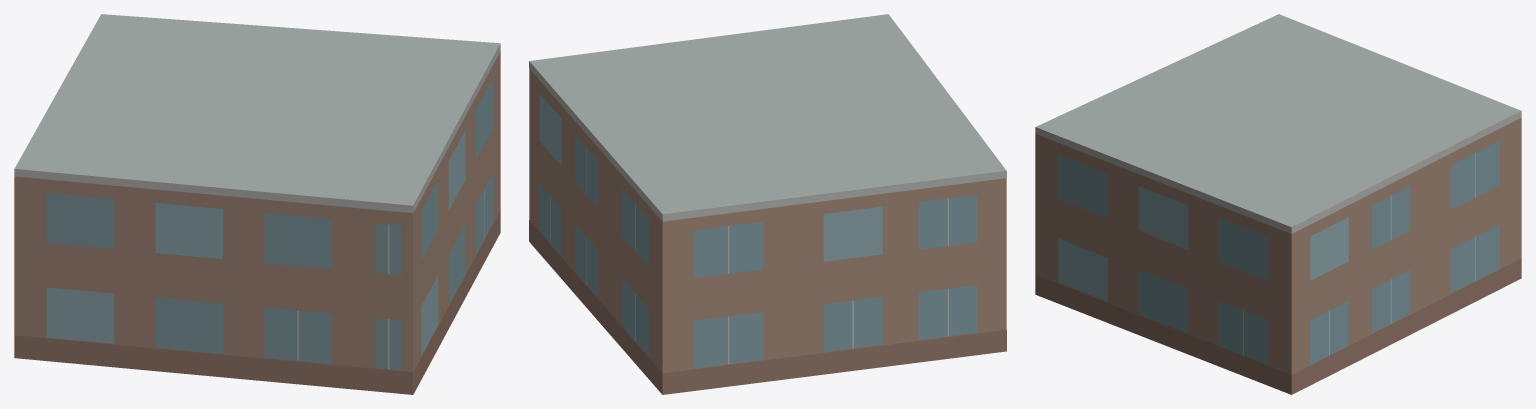
The model's file is survey-upis-32769685.glb.
The picture shows the model from 3 angles, left to right: view 1: azimuth 30°, elevation 25°; view 2: azimuth 150°, elevation 25°; view 3: azimuth 270°, elevation 25°; orthographic projection. The views are drawn at different scales.
Parts seen in each view (by area): view 1: survey-upis-32769685.tmp; view 2: survey-upis-32769685.tmp; view 3: survey-upis-32769685.tmp.
Boxes of the visible parts, x1=… form: survey-upis-32769685.tmp: x1=14, y1=14, x2=500, y2=394; survey-upis-32769685.tmp: x1=529, y1=14, x2=1006, y2=394; survey-upis-32769685.tmp: x1=1035, y1=14, x2=1521, y2=394.
Size of the model in its own units: 16.66 by 6.1 by 16.05.
